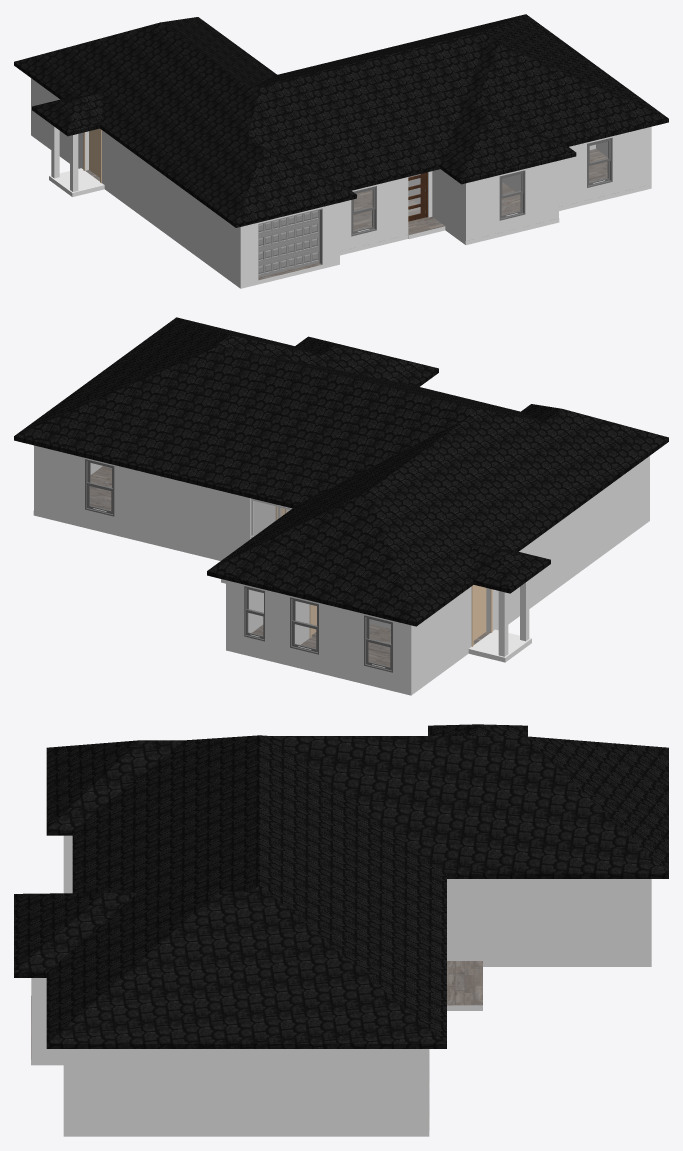
File: utah-original.glb
3 renders of one model, top to bottom at view 1: azimuth 30°, elevation 25°; view 2: azimuth 150°, elevation 25°; view 3: azimuth 270°, elevation 25°, orthographic. The views are drawn at different scales.
Parts seen in each view (by area): view 1: 165 Componente#83, 075 Componente#3, 073 Componente#1, 085 Componente#13, 083 Componente#11, 001 Group, 079 Componente#7, 082 Componente#10, 077 Componente#5, 076 Componente#4, 214 3DGeom~8, 167 Componente#85 (+2 smaller); view 2: 165 Componente#83, 086 Componente#14, 075 Componente#3, 074 Componente#2, 073 Componente#1, 135 Componente#62, 166 Componente#84, 178 Group, 090 Componente#18, 167 Componente#85, 108 Componente#36; view 3: 165 Componente#83, 088 Componente#16, 087 Componente#15, 073 Componente#1, 084 Componente#12, 085 Componente#13, 074 Componente#2, 083 Componente#11, 086 Componente#14.
Boxes of the visible parts, x1,y1,x2,y2 form: 165 Componente#83: (14,14,668,227); 075 Componente#3: (34,80,245,284); 073 Componente#1: (31,131,651,288); 085 Componente#13: (559,126,651,206); 083 Componente#11: (471,160,558,239); 001 Group: (258,208,322,279); 079 Componente#7: (340,177,408,251); 082 Componente#10: (432,169,470,240); 077 Componente#5: (322,203,339,264); 076 Componente#4: (246,207,322,283); 214 3DGeom~8: (408,173,425,221); 167 Componente#85: (70,134,78,191); 165 Componente#83: (14,317,668,626); 086 Componente#14: (34,445,250,557); 075 Componente#3: (414,456,649,687); 074 Componente#2: (226,580,414,690); 073 Componente#1: (33,466,649,695); 135 Componente#62: (473,585,486,640); 166 Componente#84: (498,591,508,656); 178 Group: (253,501,277,536); 090 Componente#18: (253,501,289,536); 167 Componente#85: (520,580,529,641); 108 Componente#36: (295,601,309,644); 165 Componente#83: (14,724,668,1048); 088 Componente#16: (72,1049,420,1130); 087 Componente#15: (447,879,642,960); 073 Componente#1: (31,961,651,1136); 084 Componente#12: (39,978,63,1059); 085 Componente#13: (63,1049,72,1130); 074 Componente#2: (643,879,651,960); 083 Componente#11: (31,978,39,1059); 086 Componente#14: (420,1049,428,1130).
Size of the model in its own units: 17.58 by 4.68 by 15.29.
18 materials, 6 textured.
